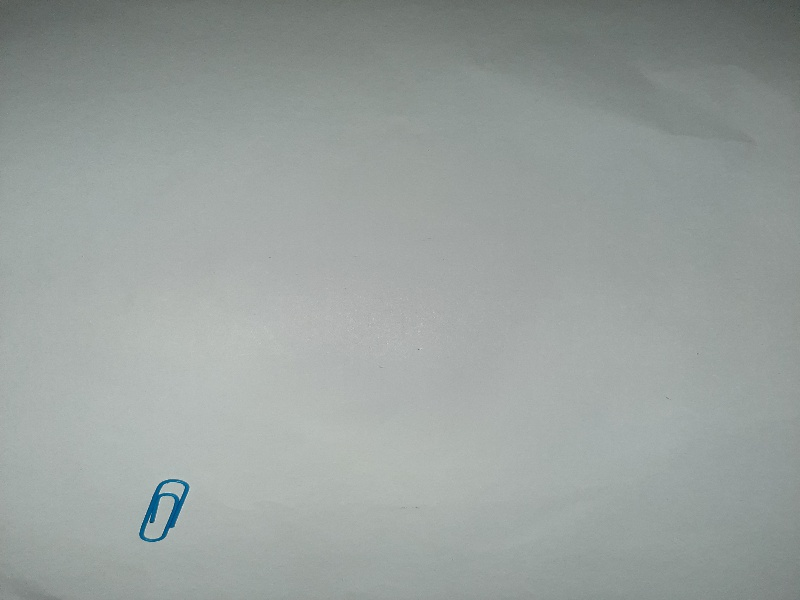Small Jumpclip: (131, 470, 202, 553)
